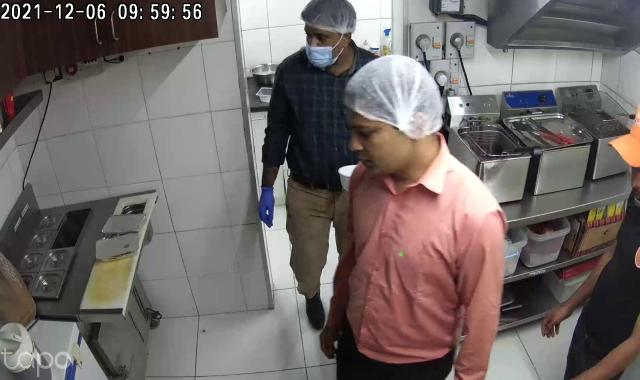hairnet: (346, 56, 456, 144), (295, 0, 365, 42)
